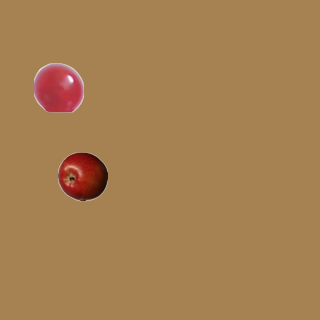Apple Braeburn: (57, 151, 107, 201)
Redcurrant: (33, 62, 83, 112)
